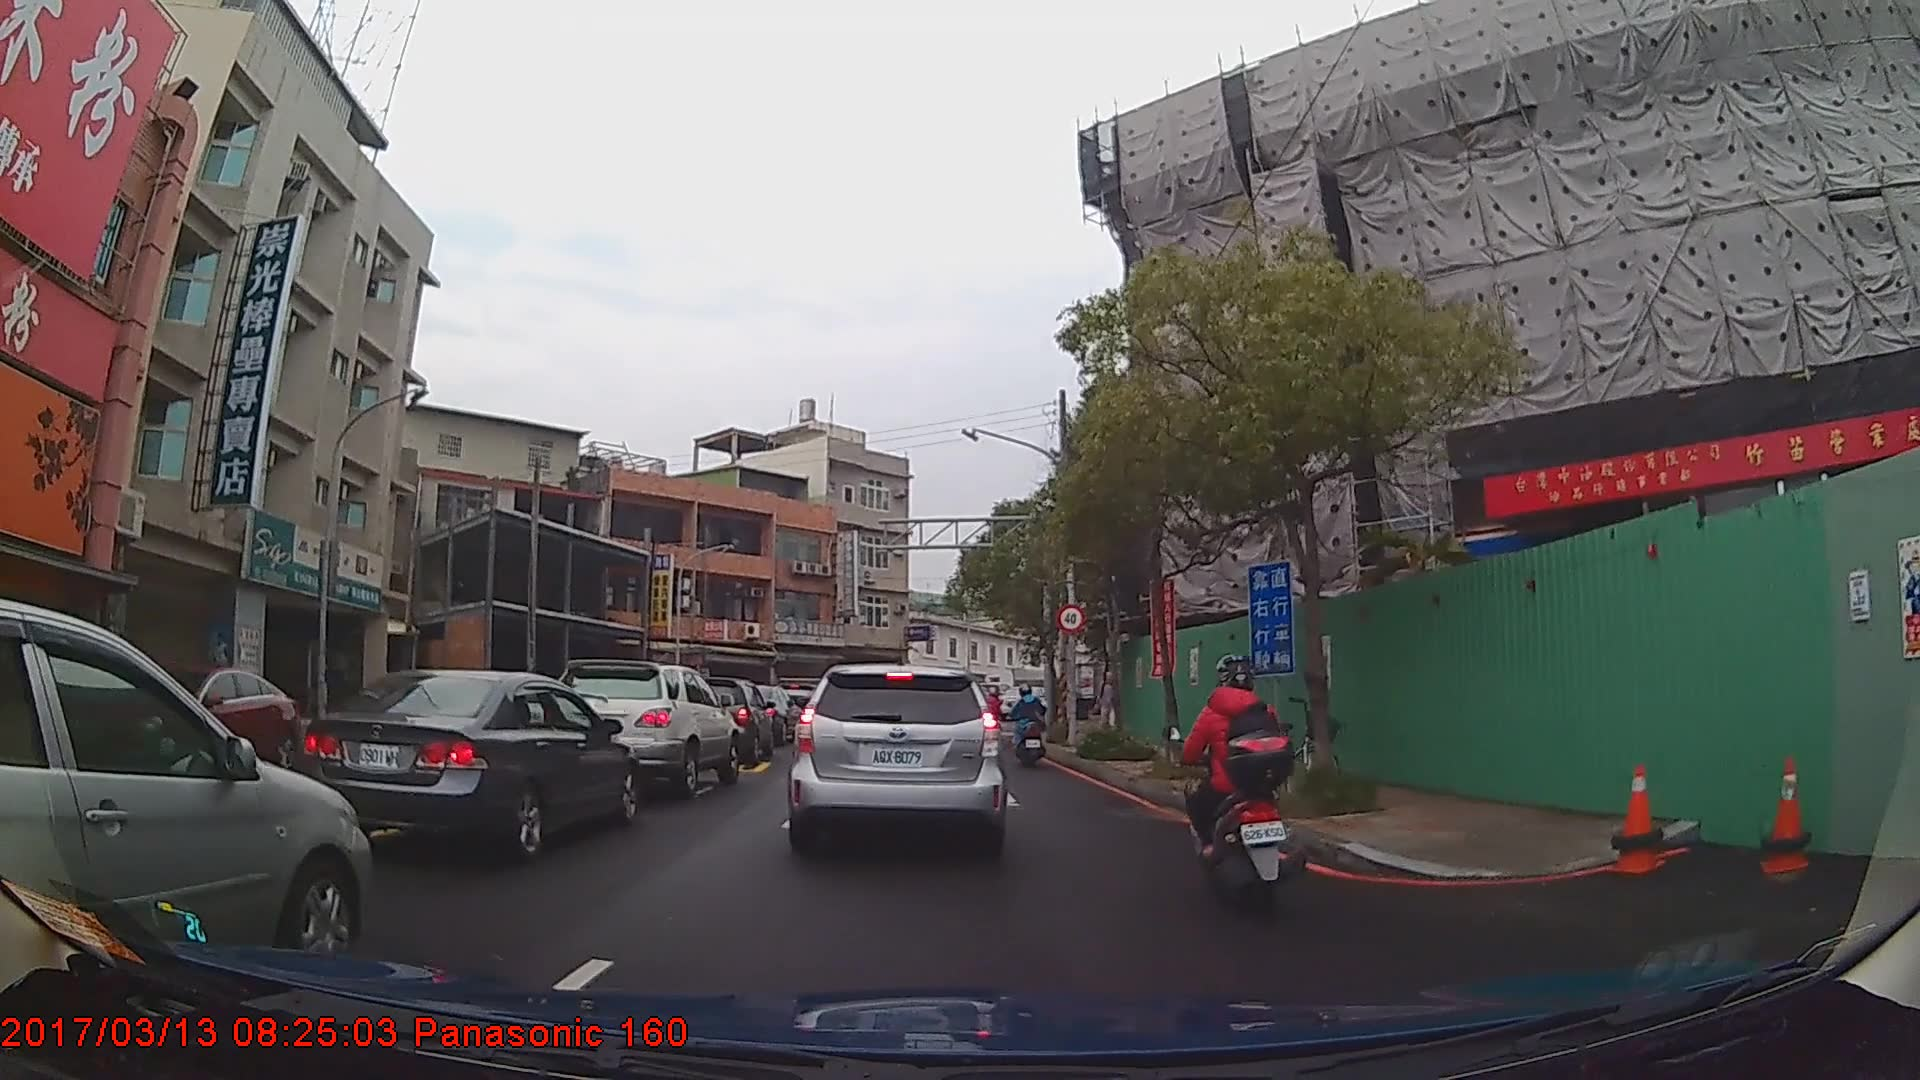rider: (1172, 650, 1305, 908), (1009, 683, 1052, 773), (982, 687, 1006, 740)
vehicle: (0, 602, 369, 986), (296, 666, 633, 859), (783, 662, 1008, 855), (554, 655, 739, 798), (108, 664, 298, 771)
